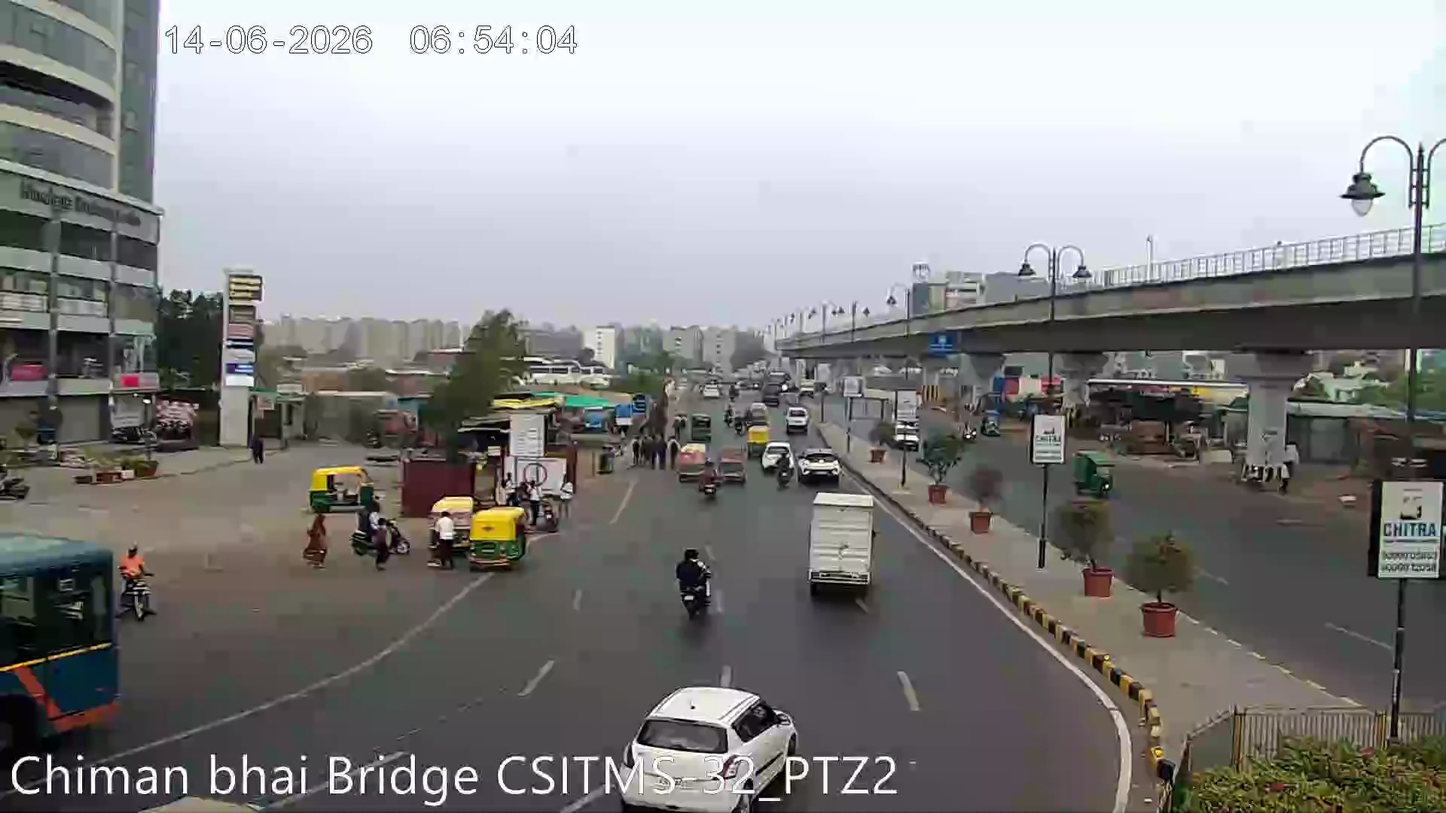auto_rickshaw: (466, 505, 530, 568), (307, 458, 373, 509), (1069, 447, 1119, 503), (427, 489, 477, 542), (758, 438, 791, 472)
bus: (0, 523, 136, 759), (803, 482, 883, 592)
car: (627, 681, 806, 784), (796, 446, 841, 482)
pedestrian: (247, 431, 269, 469)
two_wheeler: (670, 541, 721, 625), (351, 500, 406, 558), (363, 509, 409, 562), (298, 509, 333, 575), (378, 512, 410, 558), (697, 463, 722, 504)
